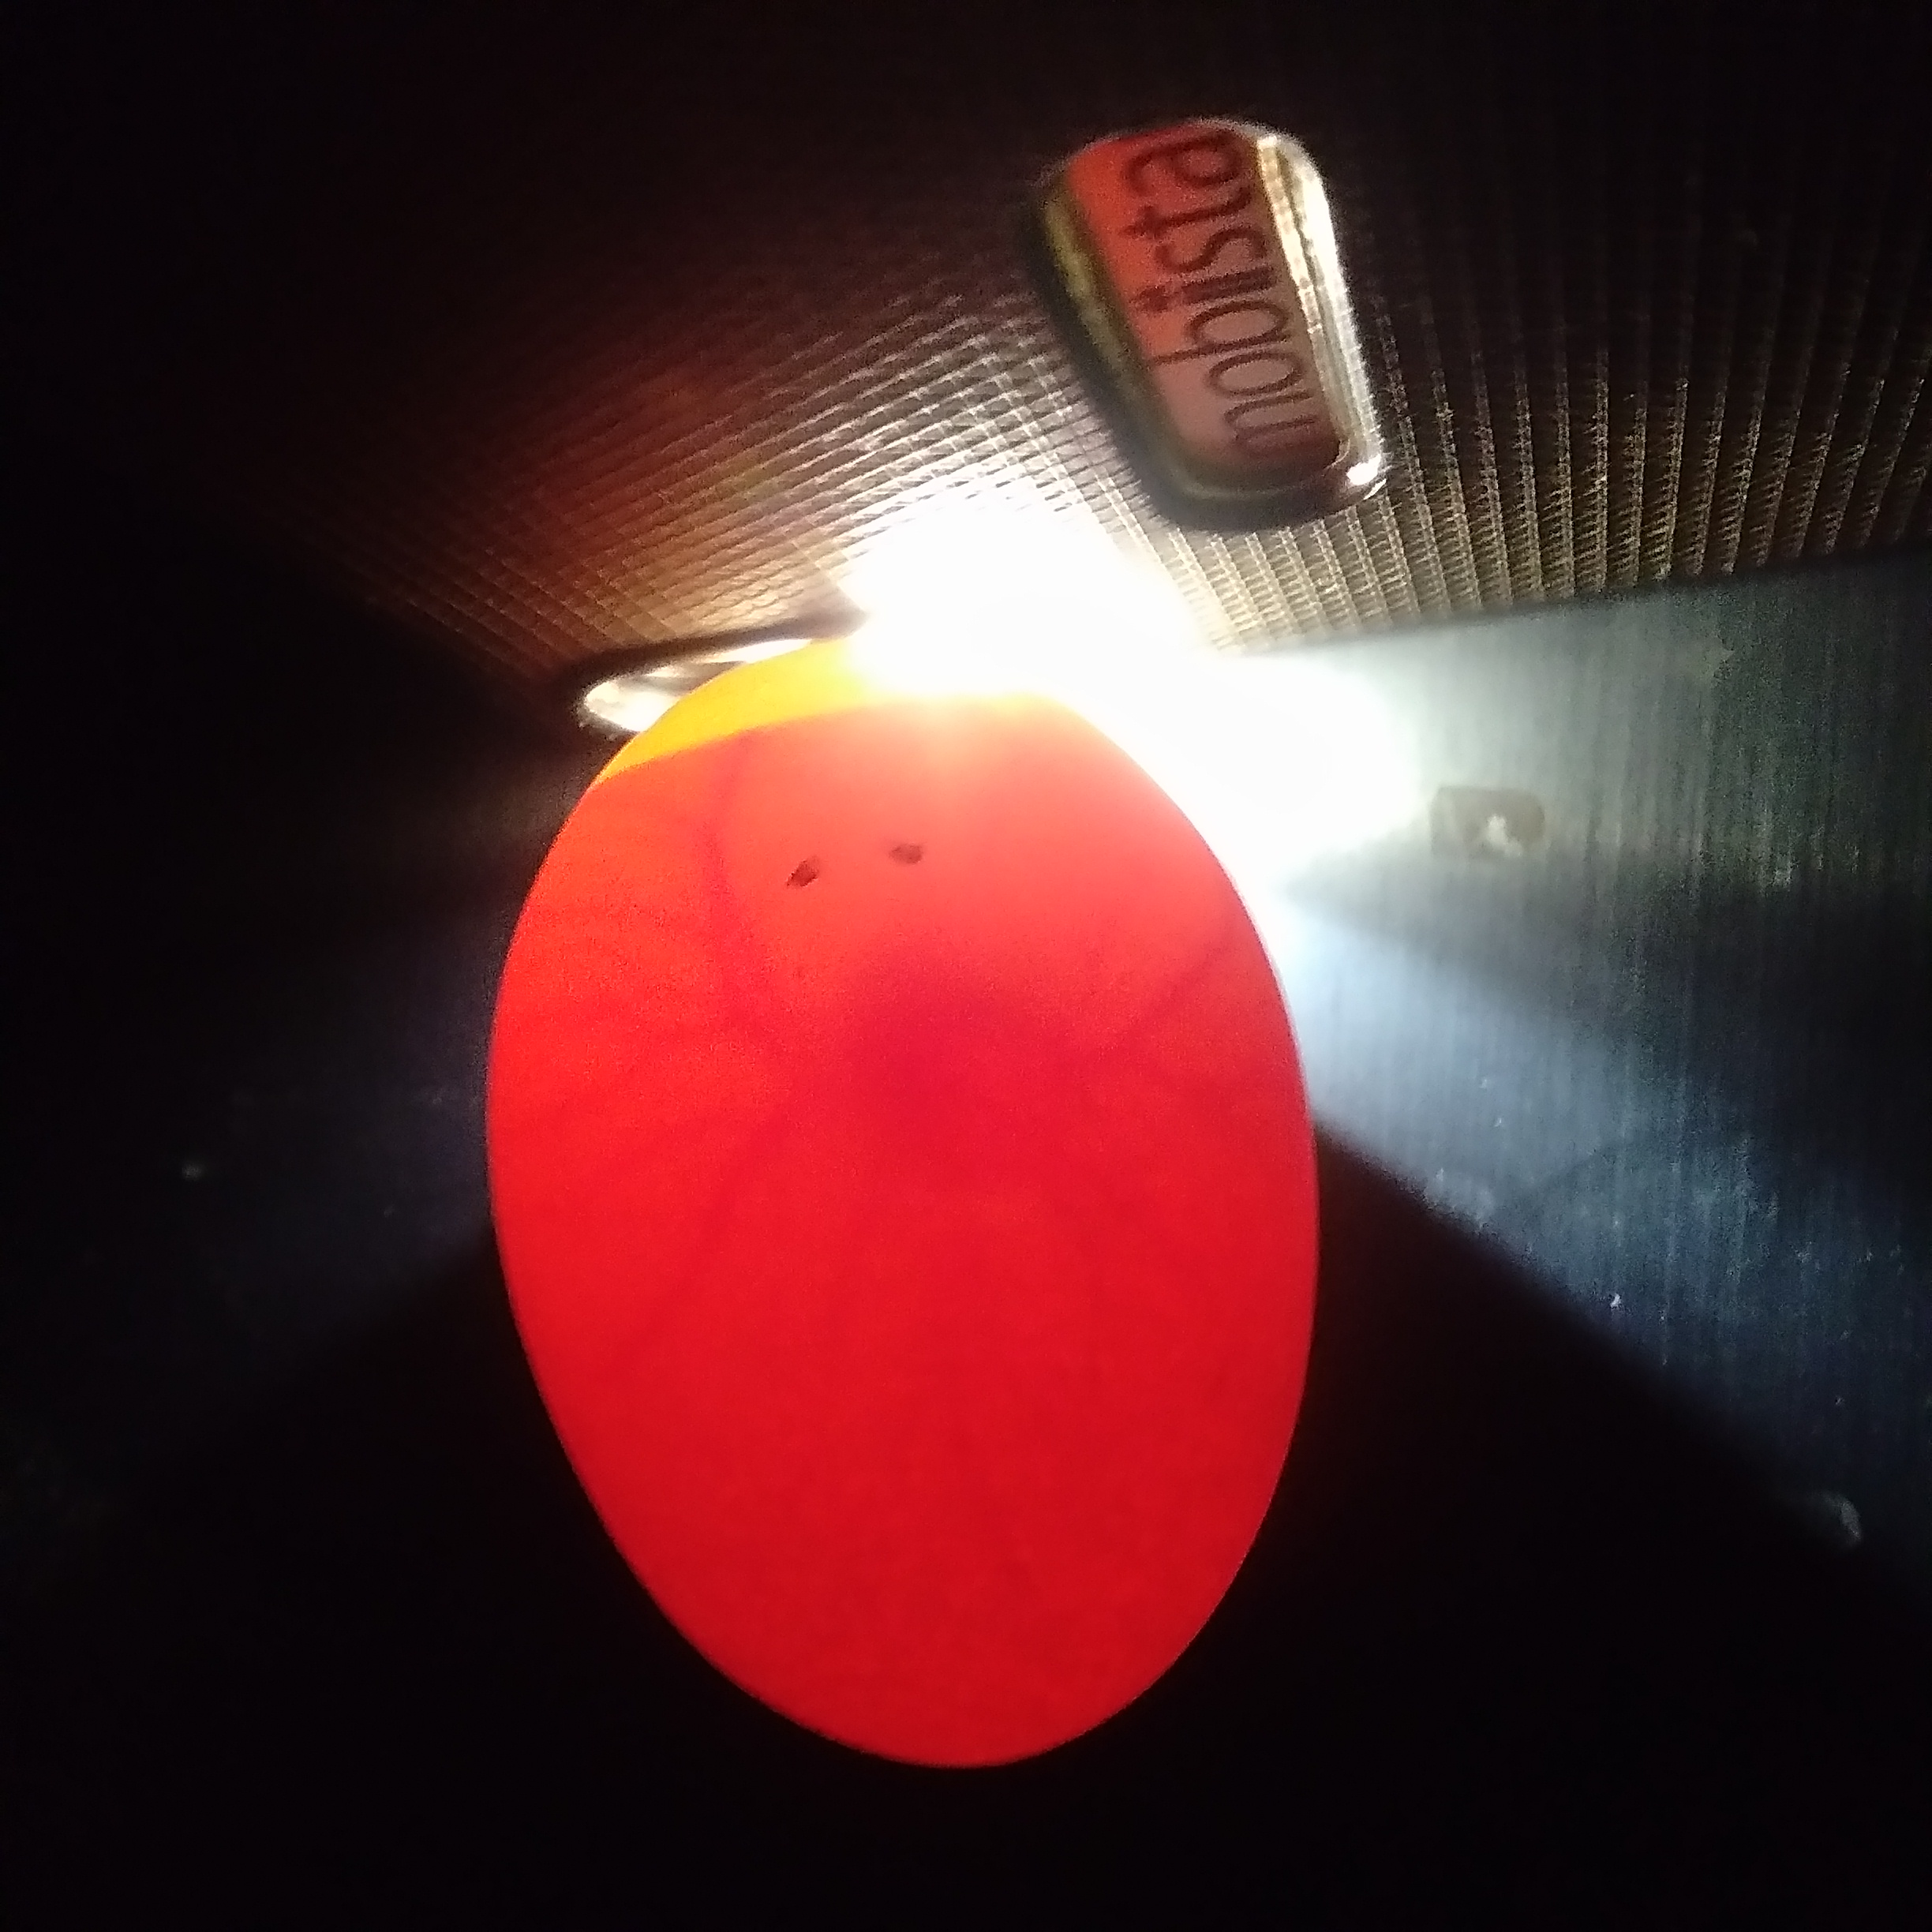bloodcell: (594, 814, 801, 1369), (1102, 890, 1226, 1192)
embryo: (863, 932, 1069, 1238)
